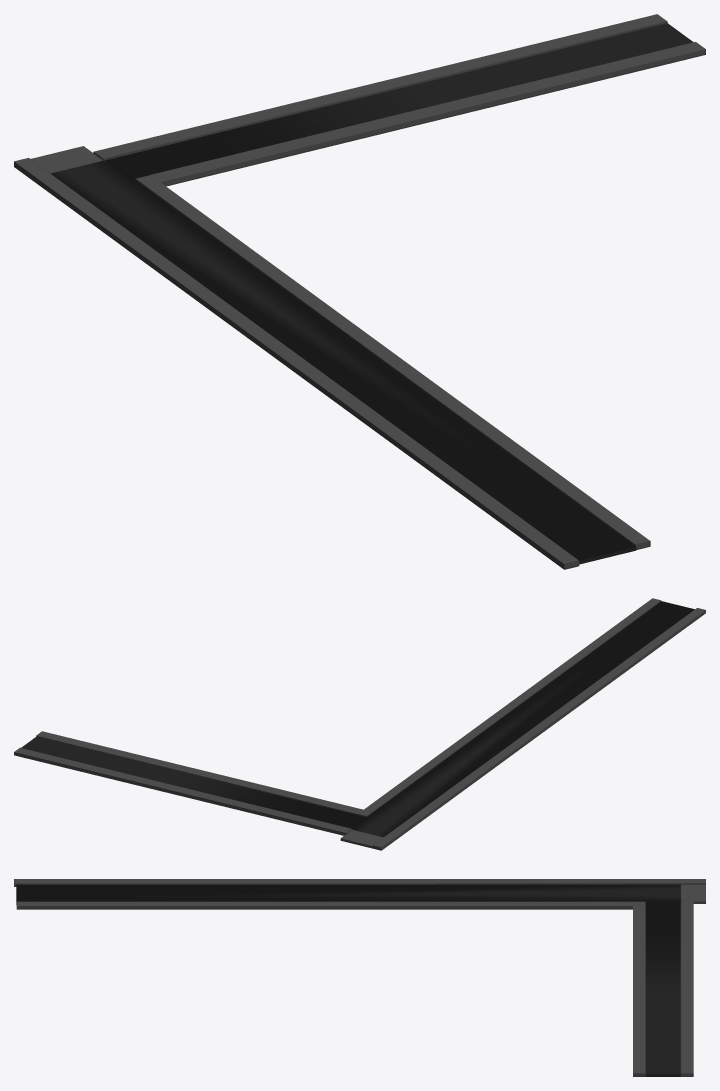
File: road.fbx
3 renders of one model, top to bottom at view 1: azimuth 30°, elevation 25°; view 2: azimuth 150°, elevation 25°; view 3: azimuth 270°, elevation 25°, orthographic. The views are drawn at different scales.
Visible parts, largest first — view 1: cube_2, cube_3, cube, cube_5, cube_1, cube_4, cube_6; view 2: cube_2, cube_3, cube, cube_4, cube_1, cube_5, cube_6; view 3: cube_2, cube_3, cube_1, cube, cube_4, cube_5, cube_6.
Part boxes in pixels (x1=…): cube_2: x1=51, y1=160, x2=636, y2=564; cube_3: x1=108, y1=23, x2=693, y2=179; cube: x1=14, y1=158, x2=579, y2=569; cube_5: x1=135, y1=42, x2=705, y2=186; cube_1: x1=135, y1=175, x2=650, y2=549; cube_4: x1=93, y1=14, x2=667, y2=160; cube_6: x1=31, y1=146, x2=103, y2=173; cube_2: x1=351, y1=601, x2=694, y2=837; cube_3: x1=21, y1=736, x2=365, y2=828; cube: x1=372, y1=608, x2=705, y2=850; cube_4: x1=14, y1=747, x2=352, y2=835; cube_1: x1=358, y1=598, x2=661, y2=816; cube_5: x1=36, y1=731, x2=372, y2=816; cube_6: x1=340, y1=830, x2=382, y2=848; cube_2: x1=16, y1=884, x2=680, y2=904; cube_3: x1=645, y1=902, x2=680, y2=1076; cube_1: x1=16, y1=901, x2=645, y2=909; cube: x1=14, y1=879, x2=705, y2=886; cube_4: x1=680, y1=900, x2=693, y2=1076; cube_5: x1=633, y1=902, x2=645, y2=1076; cube_6: x1=680, y1=883, x2=705, y2=903.
Size of the model in its own units: 5178 by 43.75 by 7788.
Materials: 1 (1 with a texture image).
